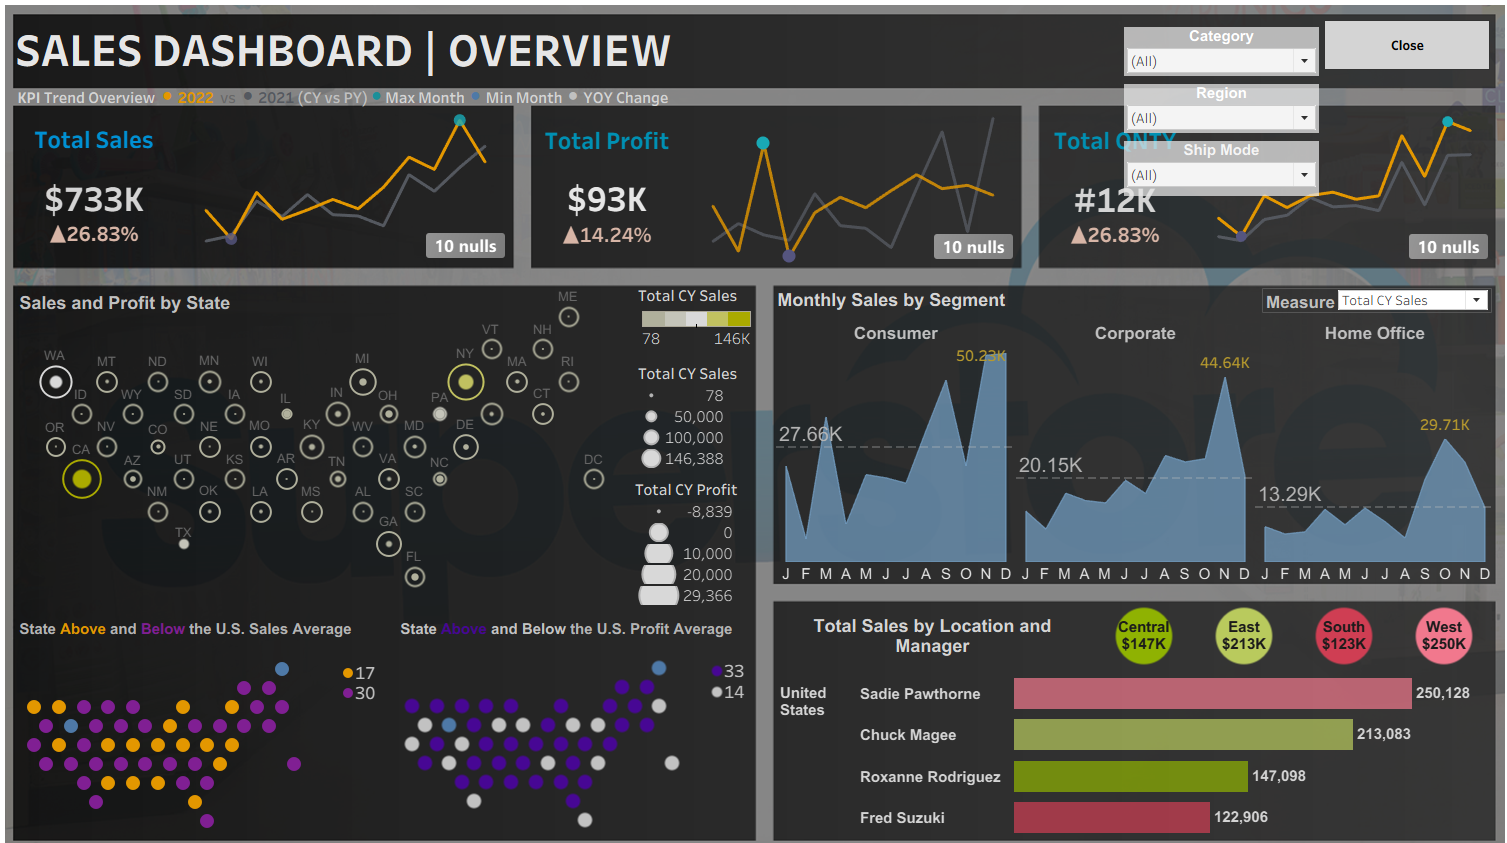

The dashboard page shown, as its layout file describes it:
{"tool":"tableau","page":{"name":"Sales Dashboard","canvas":[1600,900],"ordinal":0},"visuals":[{"type":"image","param":"Image/Sales Dashboard Background.png","box":[8,8,1584,852]},{"type":"text","box":[57,17,823,76]},{"type":"dashboard-object","box":[1369,27,166,50]},{"type":"filter","title":"Sales and Profit by State","param":"[federated.190umgp0bk0wml1gljqay1a2h1n5].[none:Category:nk]","box":[1165,30,203,57]},{"type":"text","box":[59,86,672,29]},{"type":"filter","title":"Sales and Profit by State","param":"[federated.190umgp0bk0wml1gljqay1a2h1n5].[none:Region:nk]","box":[1165,87,203,57]},{"type":"worksheet","title":"Sales KPI","mark":"Automatic","box":[57,111,164,163]},{"type":"worksheet","title":"Sales Sparklines","mark":"Automatic","rows":["Calculation_1835099585802250"],"cols":["Order Date"],"box":[221,111,338,163]},{"type":"worksheet","title":"Profit KPI","mark":"Automatic","box":[576,112,152,163]},{"type":"worksheet","title":"Profit Sparklines","mark":"Automatic","rows":["Calculation_1835099858354191"],"cols":["Order Date"],"box":[728,112,339,163]},{"type":"worksheet","title":"Quantity KPI","mark":"Automatic","box":[1083,113,153,162]},{"type":"worksheet","title":"Quantity Sparklines","mark":"Automatic","rows":["min max month (copy)_1835099876958224"],"cols":["Order Date"],"box":[1236,113,306,162]},{"type":"filter","title":"Sales and Profit by State","param":"[federated.190umgp0bk0wml1gljqay1a2h1n5].[none:Ship Mode:nk]","box":[1165,144,203,63]},{"type":"worksheet","title":"Sales and Profit by State","mark":"Circle","rows":["Row"],"cols":["Column","Column"],"box":[58,291,618,325]},{"type":"legend","title":"Sales and Profit by State","param":"[federated.190umgp0bk0wml1gljqay1a2h1n5].[sum:Calculation_1835099517100032:qk]","box":[683,292,117,92]},{"type":"text","box":[819,292,298,30]},{"type":"text","box":[61,295,222,30]},{"type":"parameter","param":"[Parameters].[Parameter 1]","box":[1307,295,230,25]},{"type":"worksheet","title":"Monthly Sales by Segment","mark":"Area","rows":["Calculation_1678695349915648"],"cols":["Segment","Order Date"],"box":[821,330,719,260]},{"type":"legend","title":"Sales and Profit by State","param":"[federated.190umgp0bk0wml1gljqay1a2h1n5].[sum:Calculation_1835099517100032:qk]","box":[683,370,116,106]},{"type":"legend","title":"Sales and Profit by State","param":"[federated.190umgp0bk0wml1gljqay1a2h1n5].[sum:Calculation_1835099557437444:qk]","box":[680,486,114,132]},{"type":"worksheet","title":"Region Sales Wise","mark":"Circle","cols":["Region"],"box":[1139,608,400,70]},{"type":"text","box":[818,610,319,67]},{"type":"text","box":[61,621,341,30]},{"type":"text","box":[442,621,341,30]},{"type":"worksheet","title":"Avg Profit by State","mark":"Circle","rows":["Row"],"cols":["Column"],"box":[437,656,300,190]},{"type":"worksheet","title":"Avg Sales by State","mark":"Circle","rows":["Row"],"cols":["Column"],"box":[59,657,300,190]},{"type":"worksheet","title":"Avg Profit by State Count","mark":"Circle","rows":["Calculation_1835100352995352"],"box":[732,667,63,45]},{"type":"worksheet","title":"Avg Sales by State Count","mark":"Circle","rows":["Calculation_1835100345085971"],"box":[363,670,66,43]},{"type":"worksheet","title":"Total Sales by Location and manager","mark":"Automatic","rows":["Country/Region","Regional Manager"],"cols":["Calculation_1835099517100032"],"box":[819,680,721,165]},{"type":"image","box":[8,860,1584,32]}]}

Visuals, with their boxes in screenshot pixels (x1, y1, x2, y2), scaled from the page's 1600x900 canvas onto the 1507x843 screenshot:
image: {"x1": 8, "y1": 7, "x2": 1499, "y2": 806}
text: {"x1": 54, "y1": 16, "x2": 829, "y2": 87}
dashboard-object: {"x1": 1289, "y1": 25, "x2": 1446, "y2": 72}
"Sales and Profit by State" filter: {"x1": 1097, "y1": 28, "x2": 1288, "y2": 81}
text: {"x1": 56, "y1": 81, "x2": 689, "y2": 108}
"Sales and Profit by State" filter: {"x1": 1097, "y1": 81, "x2": 1288, "y2": 135}
"Sales KPI" worksheet: {"x1": 54, "y1": 104, "x2": 208, "y2": 257}
"Sales Sparklines" worksheet: {"x1": 208, "y1": 104, "x2": 527, "y2": 257}
"Profit KPI" worksheet: {"x1": 543, "y1": 105, "x2": 686, "y2": 258}
"Profit Sparklines" worksheet: {"x1": 686, "y1": 105, "x2": 1005, "y2": 258}
"Quantity KPI" worksheet: {"x1": 1020, "y1": 106, "x2": 1164, "y2": 258}
"Quantity Sparklines" worksheet: {"x1": 1164, "y1": 106, "x2": 1452, "y2": 258}
"Sales and Profit by State" filter: {"x1": 1097, "y1": 135, "x2": 1288, "y2": 194}
"Sales and Profit by State" worksheet (Circle marks): {"x1": 55, "y1": 273, "x2": 637, "y2": 577}
"Sales and Profit by State" legend: {"x1": 643, "y1": 274, "x2": 754, "y2": 360}
text: {"x1": 771, "y1": 274, "x2": 1052, "y2": 302}
text: {"x1": 57, "y1": 276, "x2": 267, "y2": 304}
parameter: {"x1": 1231, "y1": 276, "x2": 1448, "y2": 300}
"Monthly Sales by Segment" worksheet (Area marks): {"x1": 773, "y1": 309, "x2": 1450, "y2": 553}
"Sales and Profit by State" legend: {"x1": 643, "y1": 347, "x2": 753, "y2": 446}
"Sales and Profit by State" legend: {"x1": 640, "y1": 455, "x2": 748, "y2": 579}
"Region Sales Wise" worksheet (Circle marks): {"x1": 1073, "y1": 569, "x2": 1450, "y2": 635}
text: {"x1": 770, "y1": 571, "x2": 1071, "y2": 634}
text: {"x1": 57, "y1": 582, "x2": 379, "y2": 610}
text: {"x1": 416, "y1": 582, "x2": 737, "y2": 610}
"Avg Profit by State" worksheet (Circle marks): {"x1": 412, "y1": 614, "x2": 694, "y2": 792}
"Avg Sales by State" worksheet (Circle marks): {"x1": 56, "y1": 615, "x2": 338, "y2": 793}
"Avg Profit by State Count" worksheet (Circle marks): {"x1": 689, "y1": 625, "x2": 749, "y2": 667}
"Avg Sales by State Count" worksheet (Circle marks): {"x1": 342, "y1": 628, "x2": 404, "y2": 668}
"Total Sales by Location and manager" worksheet: {"x1": 771, "y1": 637, "x2": 1450, "y2": 791}
image: {"x1": 8, "y1": 806, "x2": 1499, "y2": 836}
